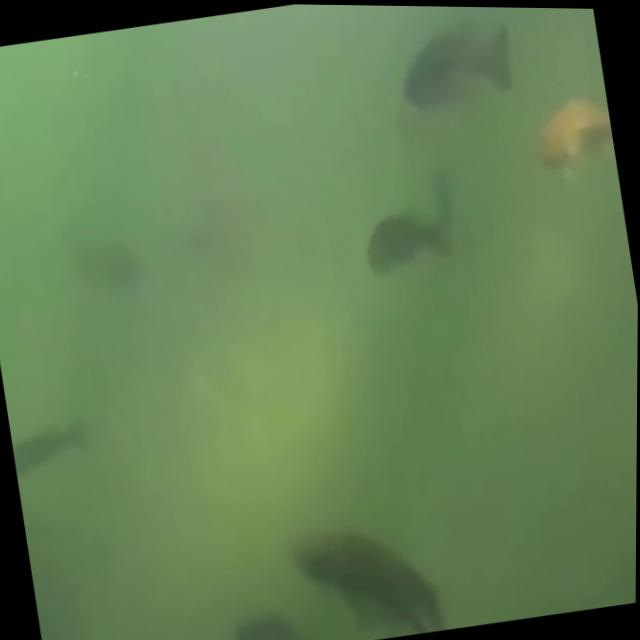fish: (271, 487, 477, 640), (370, 4, 533, 135), (344, 177, 477, 297), (516, 73, 621, 195), (8, 397, 106, 490), (194, 591, 311, 640)
